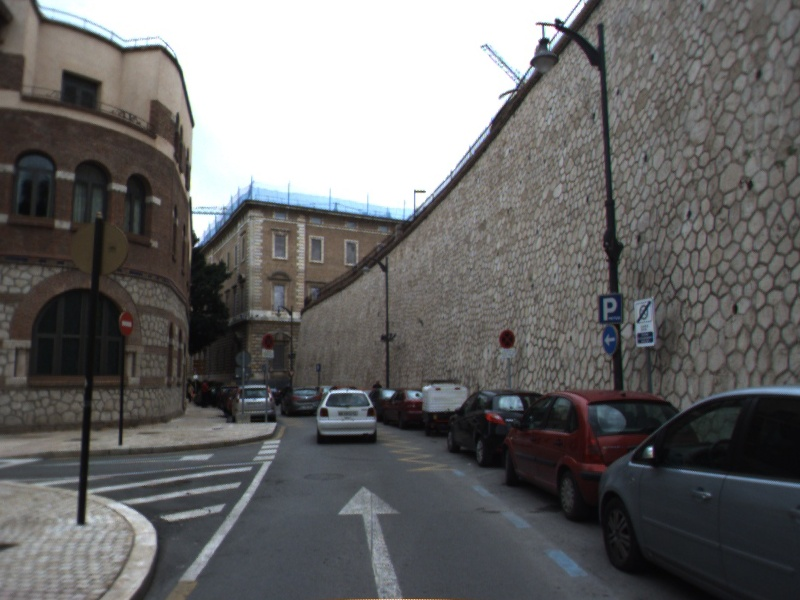STRAIGHT: (336, 484, 403, 600)
